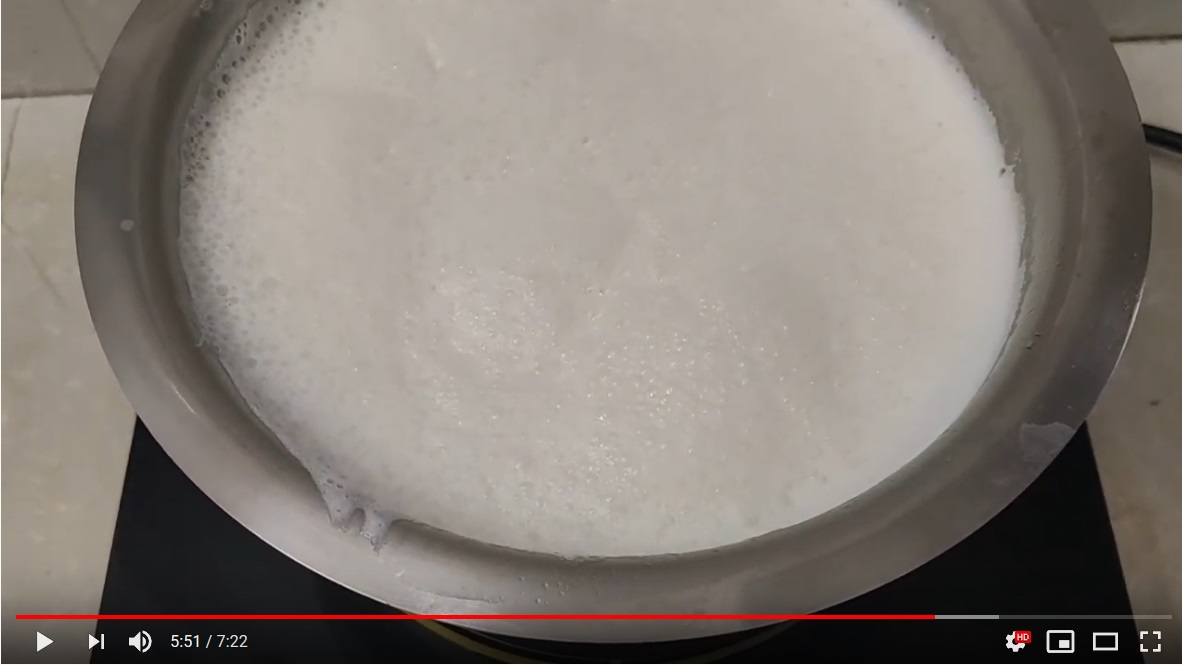Steaming: (159, 1, 1066, 581)
